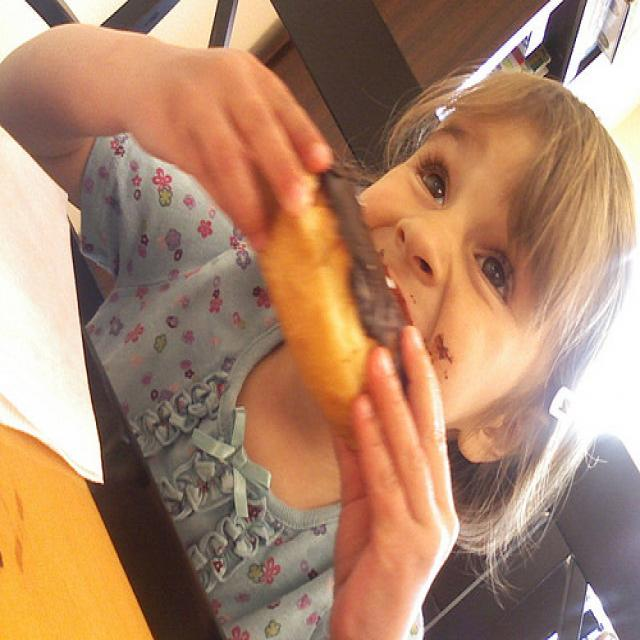chair: (432, 439, 640, 629)
dining table: (0, 294, 222, 640)
